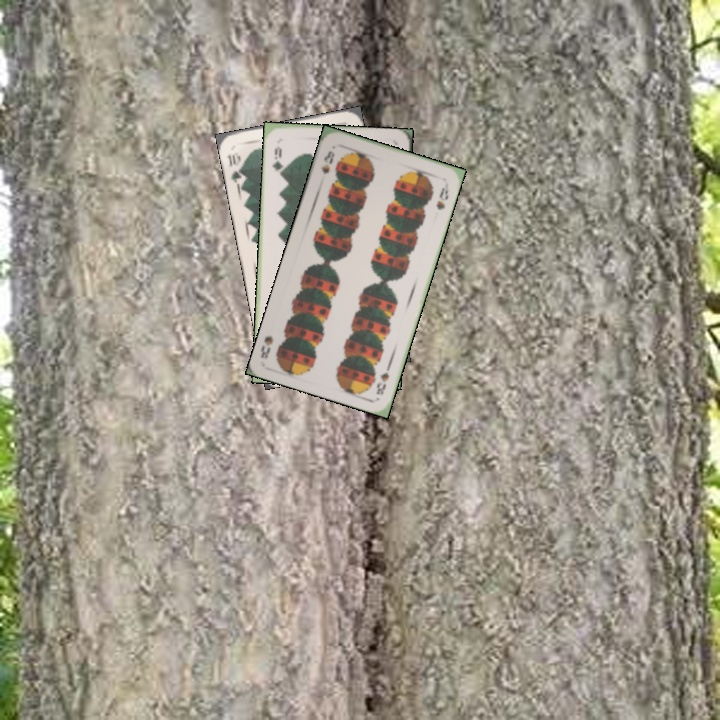G10: (222, 150, 246, 187)
G9: (268, 142, 285, 178)
S8: (372, 359, 394, 398), (317, 147, 337, 177)
